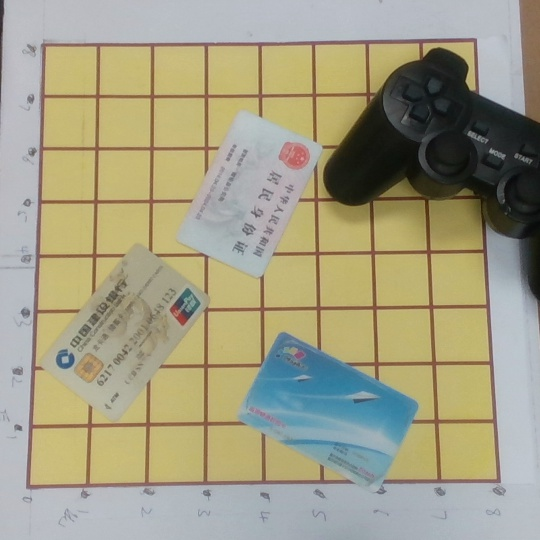card: (37, 243, 210, 421), (234, 329, 419, 495), (176, 107, 322, 280)
remote: (321, 46, 540, 309)
